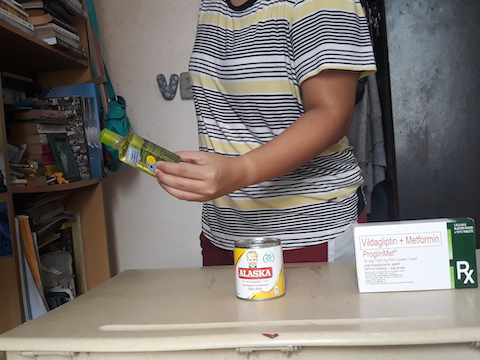bottle: (98, 123, 184, 181)
box: (348, 213, 475, 298)
can: (229, 236, 290, 303)
grab: (153, 146, 231, 204)
